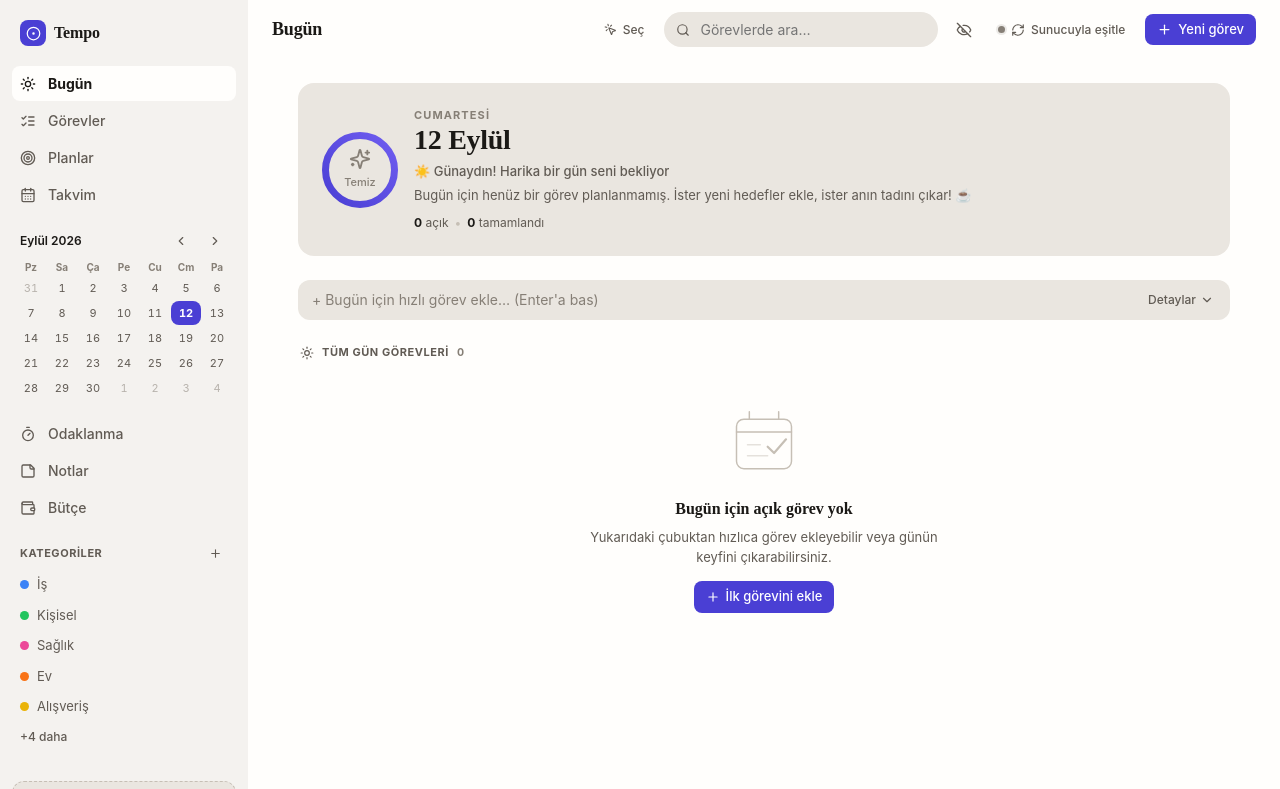
the budget page › opens on the summary, with the rest one press away
Click the button "Bütçe".
click(124, 508)  # box [12,490,236,525]
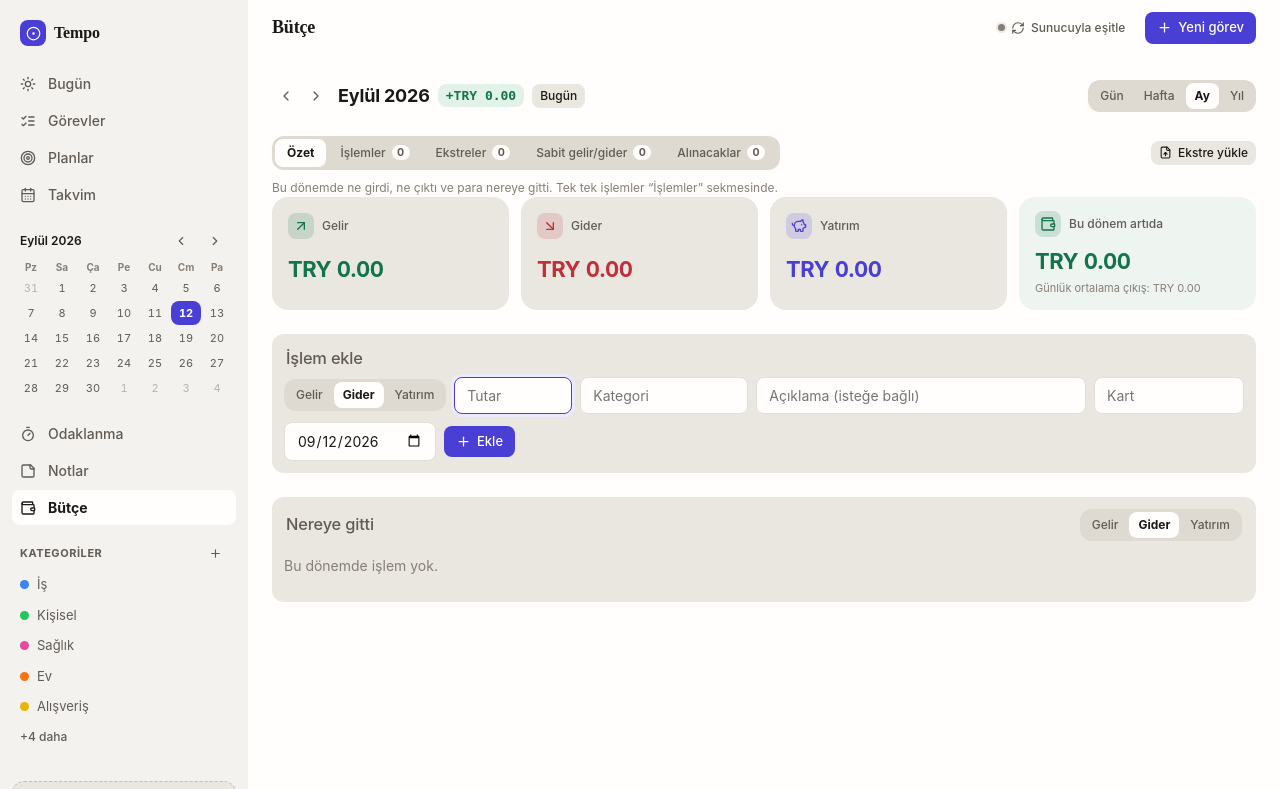
Now the heading "Nereye gitti" is shown, box [286,512,374,537]
